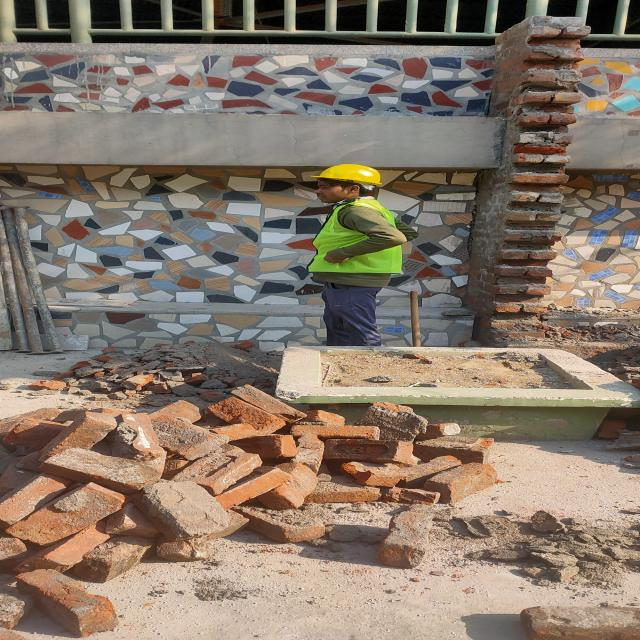safe: (306, 164, 408, 346)
